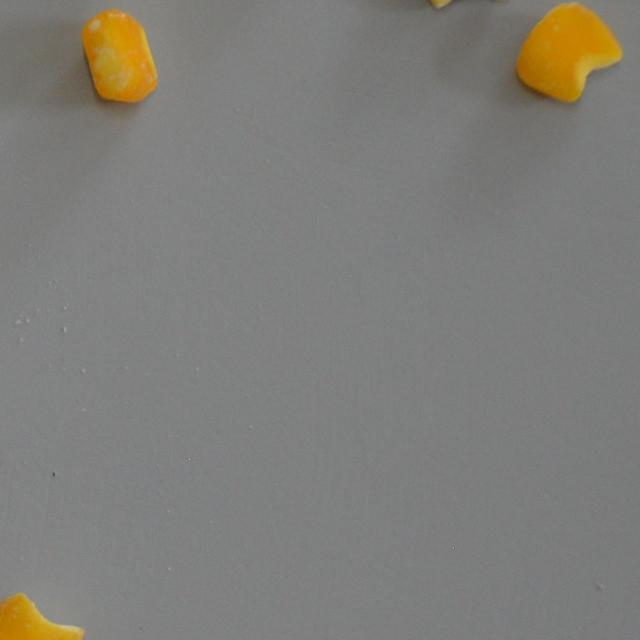pelicula: (515, 0, 623, 104), (80, 8, 158, 102), (0, 590, 85, 640), (416, 0, 525, 11)
